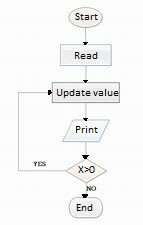arrow: (16, 89, 66, 173), (81, 101, 90, 122), (81, 141, 90, 159), (82, 64, 90, 83), (82, 26, 89, 46), (81, 183, 90, 198)
data: (61, 119, 111, 143)
decision: (64, 159, 107, 183)
process: (50, 80, 121, 104), (59, 42, 113, 66)
terminator: (67, 6, 105, 29), (68, 196, 104, 219)
text: (56, 88, 119, 99), (74, 11, 99, 21), (74, 50, 99, 60), (75, 124, 99, 134), (77, 164, 96, 174), (76, 202, 93, 212), (32, 160, 47, 168), (86, 185, 97, 192)
